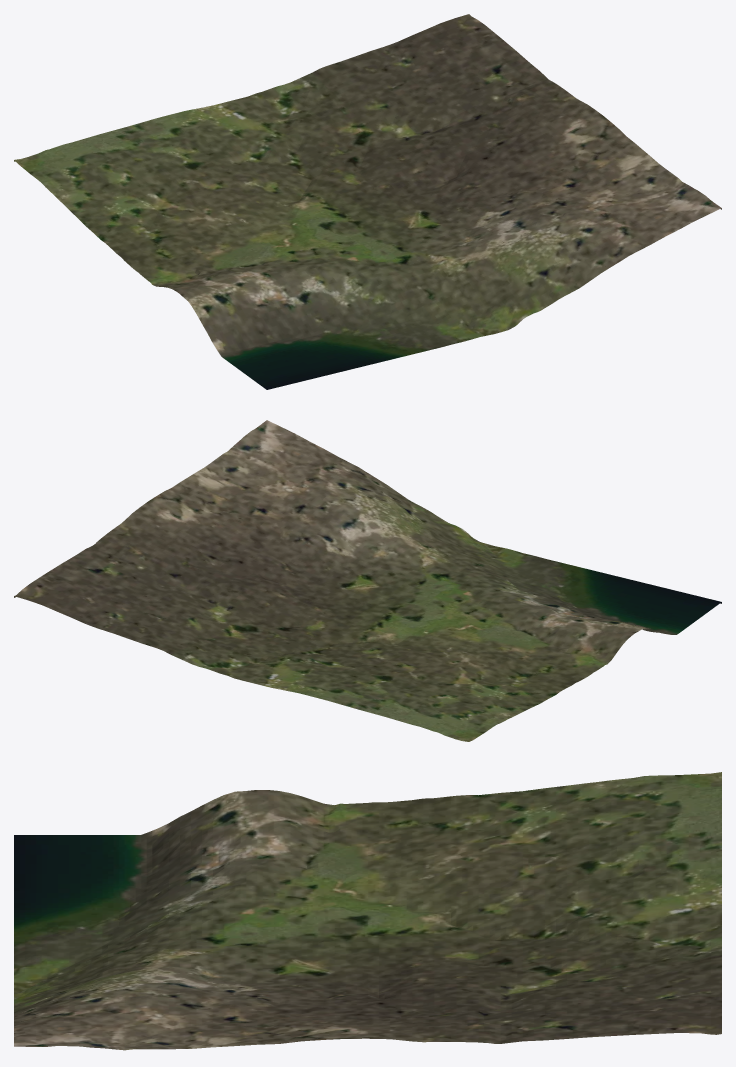
3 renders of one model, top to bottom at view 1: azimuth 30°, elevation 25°; view 2: azimuth 150°, elevation 25°; view 3: azimuth 270°, elevation 25°, orthographic. The views are drawn at different scales.
Size of the model in its own units: 250 by 43.34 by 241.
1 material, 1 textured.
